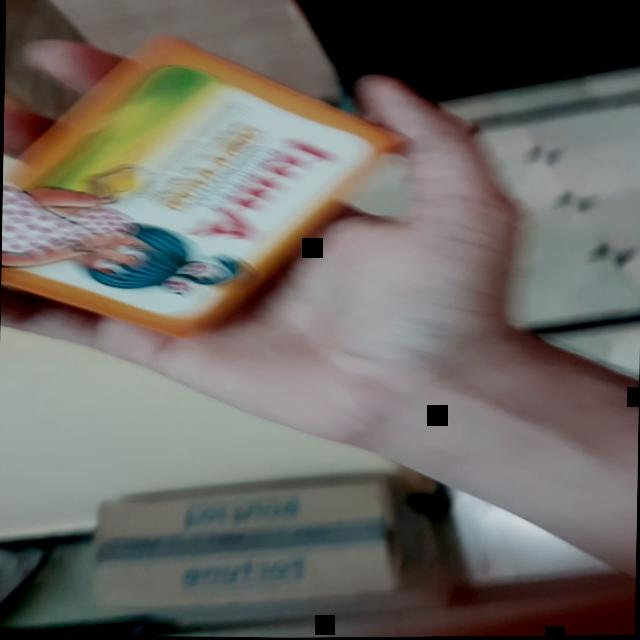butter: (0, 29, 412, 343)
